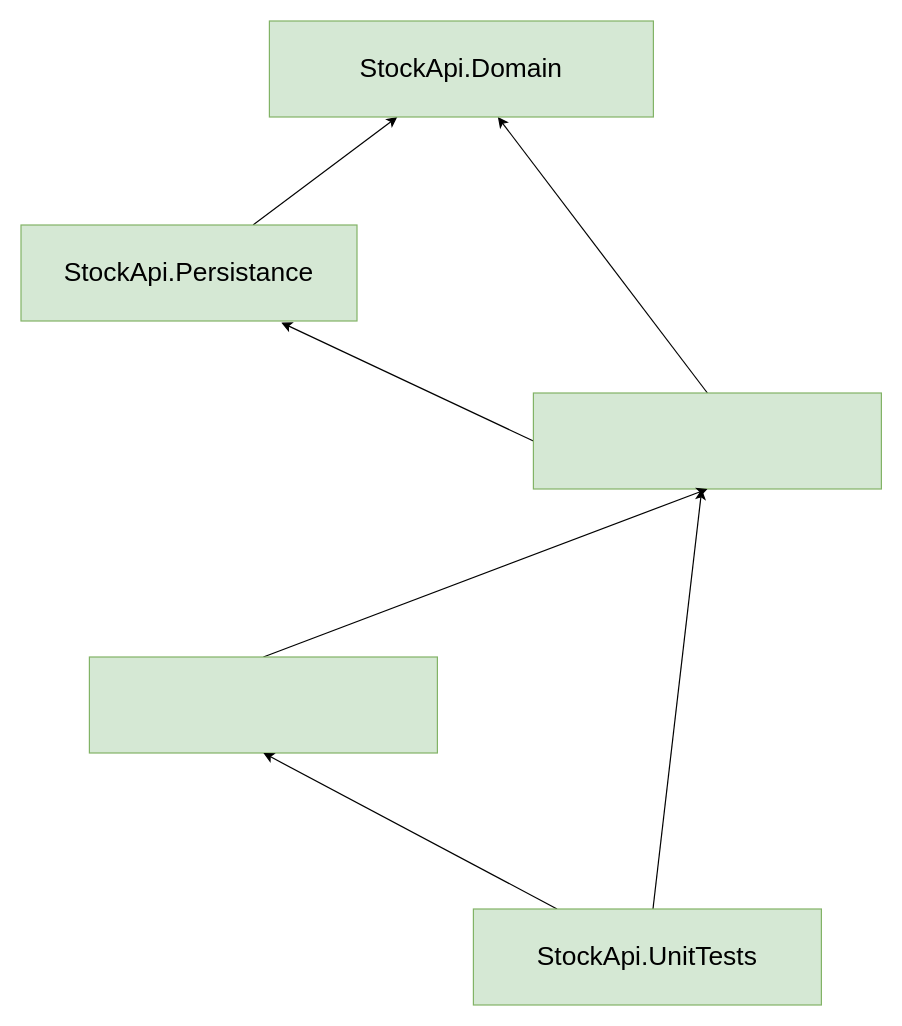
Some shapes in this 902 by 1026 pixel diagram are drawn without their labels. The shapes that lost their labels are listed below. From the top down, each one's centre as x and y in pixels, then its label:
At (706,440): "StockApi.DataAccess".
At (262,704): "StockApi.UI".
